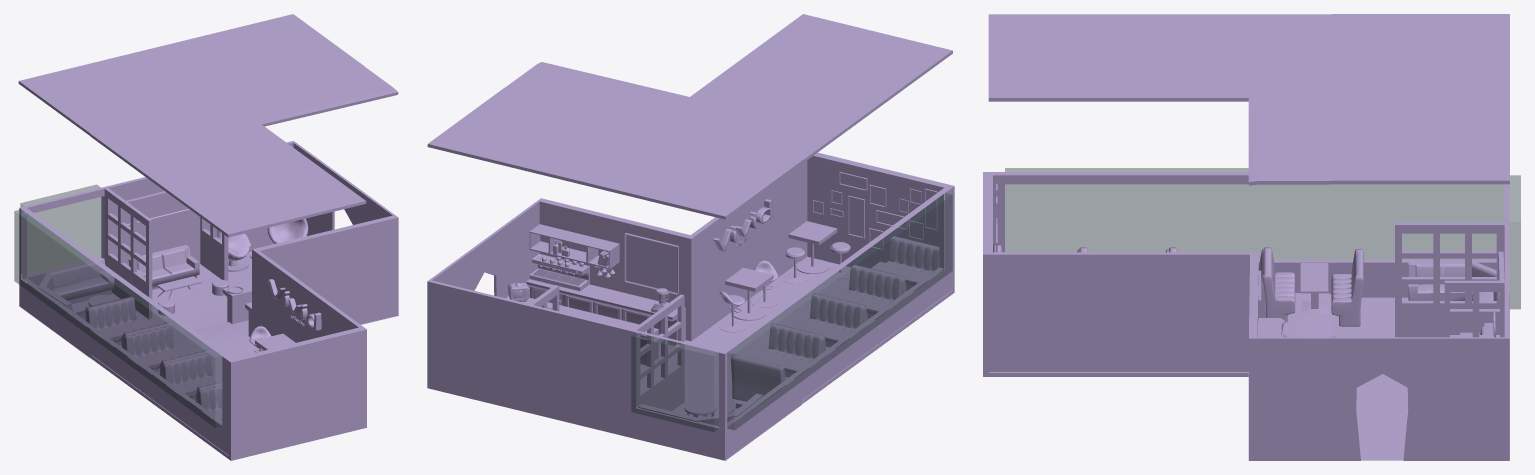
3 renders of one model, left to right at view 1: azimuth 30°, elevation 25°; view 2: azimuth 150°, elevation 25°; view 3: azimuth 270°, elevation 25°, orthographic. The views are drawn at different scales.
Visible parts, largest first — view 1: walls_primitive2, ceiling, walls_primitive1, floor, corner_cauch, Long_cauch1, singl, singl1, singl2, billboard1, barpult1, bog_puff1 (+8 smaller); view 2: walls_primitive2, ceiling, walls_primitive1, floor, billboard, barpult2, shelf, singl, singl6, singl7, singl5, singl4 (+10 smaller); view 3: walls_primitive2, ceiling, walls_primitive1, floor, corner_cauch, singl, singl7, booth_table1.
Boxes of the visible parts, bbox=[...] form: walls_primitive2: bbox=[19, 141, 398, 460]; ceiling: bbox=[18, 14, 398, 237]; walls_primitive1: bbox=[14, 184, 222, 427]; floor: bbox=[19, 251, 397, 455]; corner_cauch: bbox=[38, 257, 114, 323]; Long_cauch1: bbox=[128, 245, 199, 289]; singl: bbox=[85, 296, 136, 346]; singl1: bbox=[123, 326, 174, 373]; singl2: bbox=[162, 353, 212, 400]; billboard1: bbox=[124, 191, 189, 224]; barpult1: bbox=[222, 282, 251, 324]; bog_puff1: bbox=[217, 229, 250, 271]; walls_primitive2: bbox=[427, 152, 954, 460]; ceiling: bbox=[427, 14, 952, 219]; walls_primitive1: bbox=[631, 193, 952, 431]; floor: bbox=[640, 256, 952, 460]; billboard: bbox=[624, 233, 678, 294]; barpult2: bbox=[526, 279, 685, 345]; shelf: bbox=[529, 224, 619, 269]; singl: bbox=[731, 354, 792, 403]; singl6: bbox=[807, 293, 864, 348]; singl7: bbox=[765, 323, 823, 378]; singl5: bbox=[847, 264, 903, 319]; singl4: bbox=[886, 236, 942, 291]; walls_primitive2: bbox=[983, 172, 1509, 460]; ceiling: bbox=[988, 14, 1509, 185]; walls_primitive1: bbox=[1005, 168, 1520, 309]; floor: bbox=[988, 293, 1509, 460]; corner_cauch: bbox=[1408, 260, 1496, 300]; singl: bbox=[1331, 249, 1363, 326]; singl7: bbox=[1263, 247, 1295, 322]; booth_table1: bbox=[1300, 263, 1329, 314].
Size of the model in its own units: 10.25 by 7.87 by 13.64.
